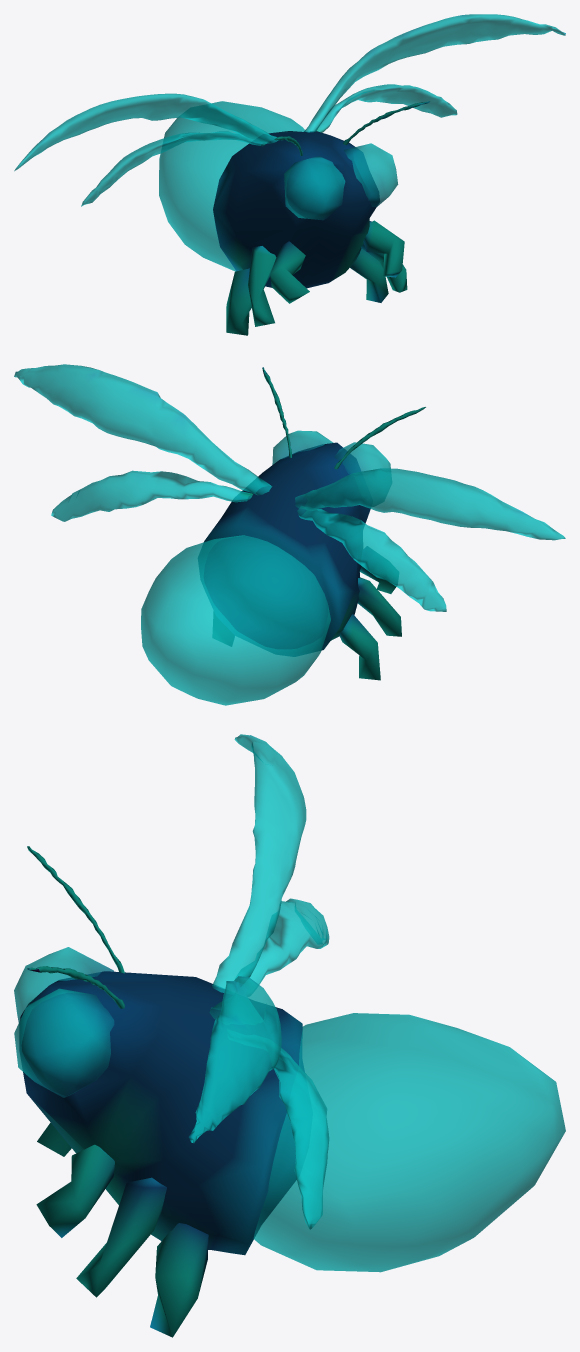
Rendered from finis-Maya-player.fbx.
3 views of the same model, one above another, from view 1: azimuth 30°, elevation 25°; view 2: azimuth 150°, elevation 25°; view 3: azimuth 270°, elevation 25° (orthographic). The views are drawn at different scales.
Parts seen in each view (by area): view 1: PM3D_Sphere3D_1, PM3D_Sphere3D_2, PM3D_Sphere3D_3, PM3D_Sphereinder3D1_2; view 2: PM3D_Sphere3D_1, PM3D_Sphere3D_2, PM3D_Sphere3D_3, PM3D_Sphereinder3D1_2; view 3: PM3D_Sphere3D_1, PM3D_Sphere3D_2, PM3D_Sphere3D_3, PM3D_Sphereinder3D1_2.
Boxes of the visible parts, bbox=[...] form: PM3D_Sphere3D_1: bbox=[159, 101, 407, 335]; PM3D_Sphere3D_2: bbox=[14, 14, 565, 171]; PM3D_Sphere3D_3: bbox=[81, 84, 457, 206]; PM3D_Sphereinder3D1_2: bbox=[274, 101, 429, 155]; PM3D_Sphere3D_1: bbox=[141, 430, 401, 705]; PM3D_Sphere3D_2: bbox=[14, 364, 565, 540]; PM3D_Sphere3D_3: bbox=[51, 470, 446, 611]; PM3D_Sphereinder3D1_2: bbox=[262, 367, 425, 469]; PM3D_Sphere3D_1: bbox=[14, 947, 565, 1337]; PM3D_Sphere3D_2: bbox=[188, 734, 306, 1143]; PM3D_Sphere3D_3: bbox=[245, 898, 329, 1229]; PM3D_Sphereinder3D1_2: bbox=[27, 846, 124, 1008].
Size of what is drawn, in the model's own units: 7.46 by 3.25 by 4.09.
